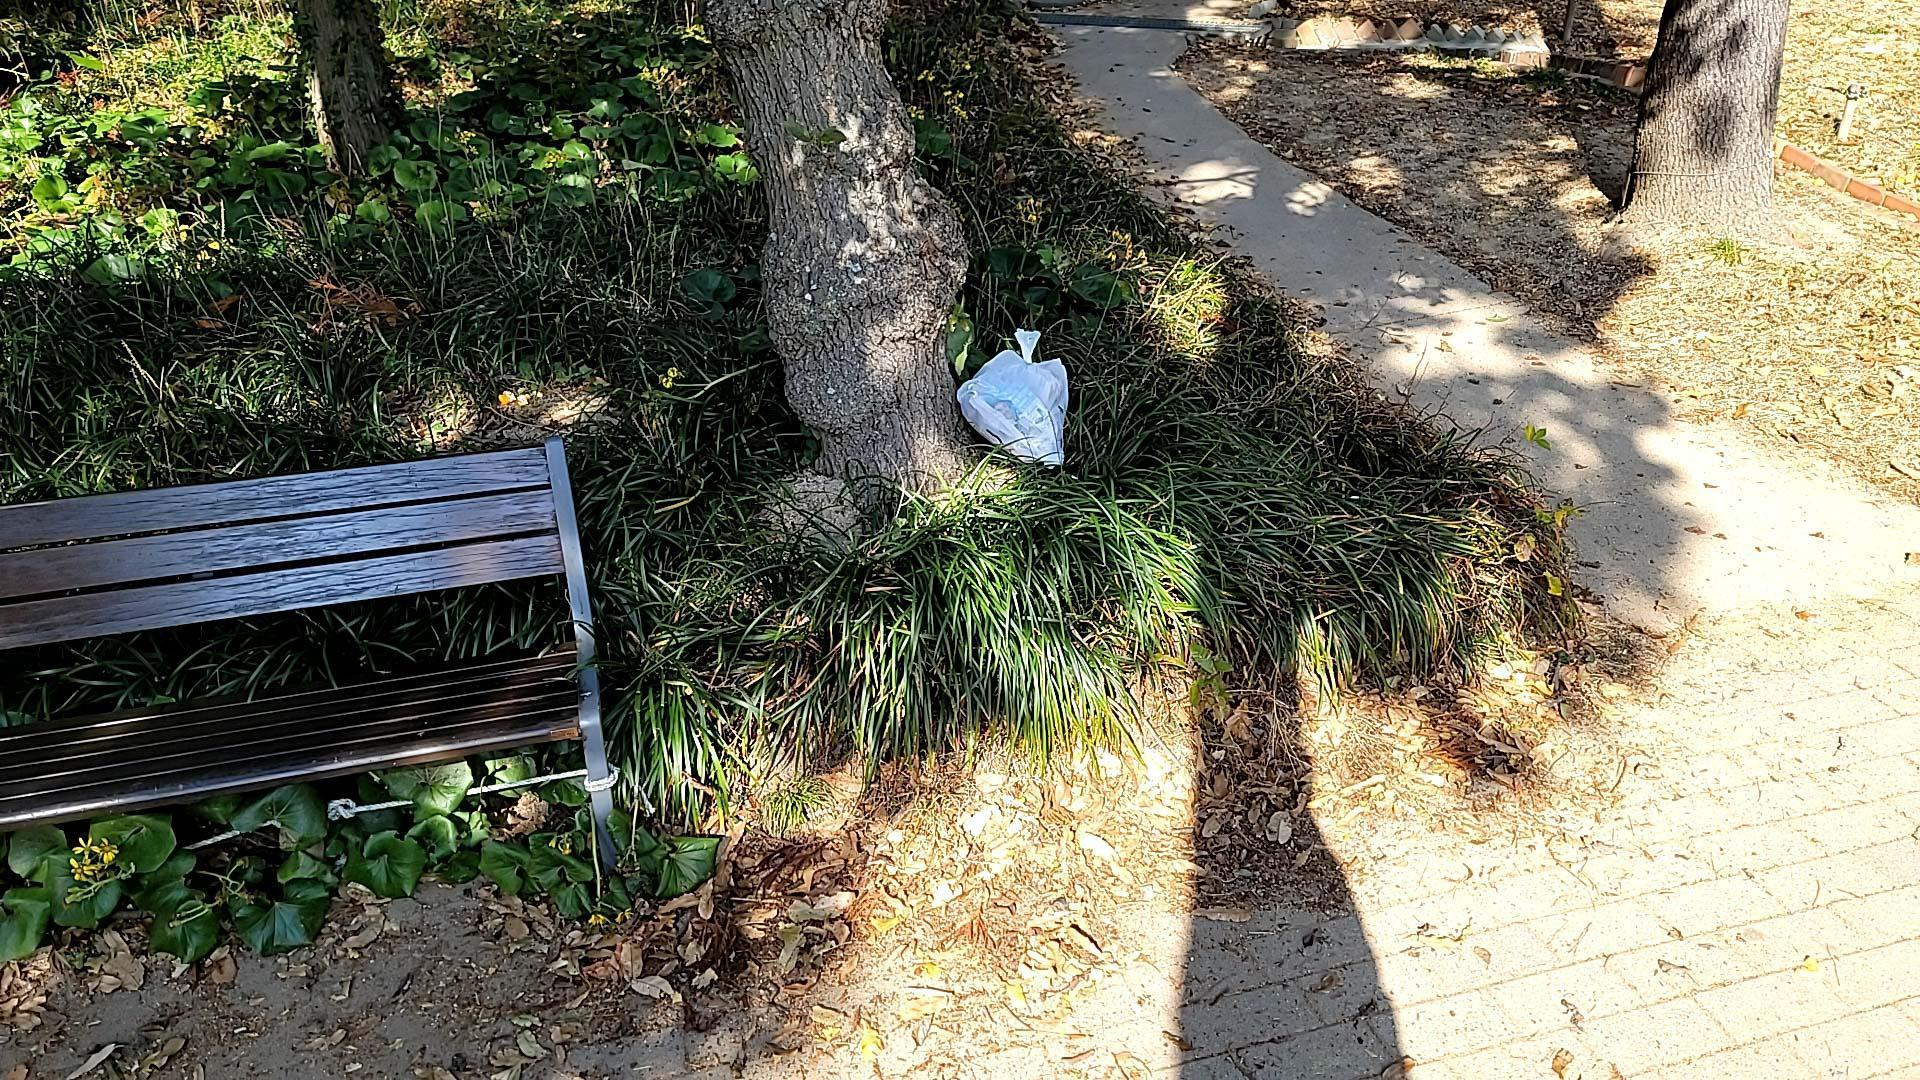white_bag: (938, 316, 1083, 479)
